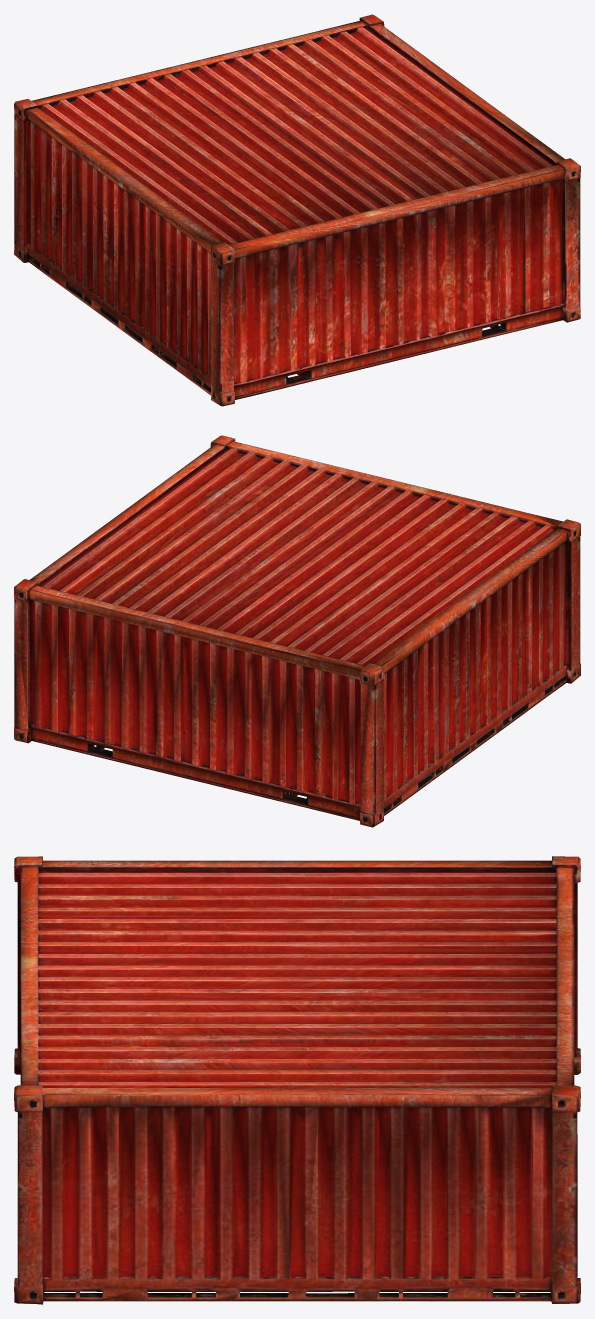
Rendered from container.glb.
The picture shows the model from 3 angles, top to bottom: view 1: azimuth 30°, elevation 25°; view 2: azimuth 150°, elevation 25°; view 3: azimuth 270°, elevation 25°; orthographic projection. The views are drawn at different scales.
Visible parts, largest first — view 1: container; view 2: container; view 3: container.
Part boxes in pixels (left/top/right/bottom): container: left=14, top=14, right=580, bottom=406; container: left=14, top=435, right=580, bottom=827; container: left=14, top=856, right=580, bottom=1304.
Bounding box in the file's own units: 2.44 × 1 × 2.44.
Materials: 1 (1 with a texture image).
